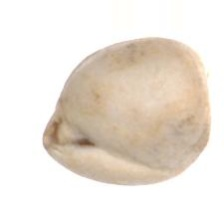L3: (40, 95, 99, 152)
L4: (41, 38, 212, 186)
